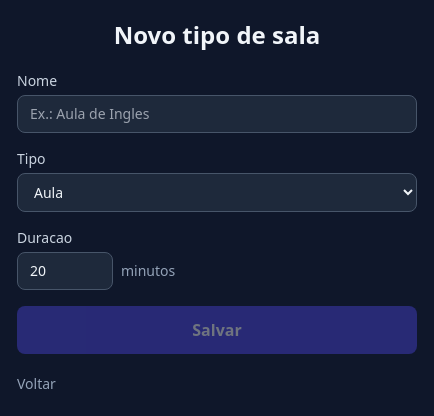
Scenario: RoomProfileForm › blocks submit for an out-of-range duration
The image size is (434, 416).
Replace the text in the number field labelled "Duracao" with "999": (65, 270) [17, 252, 113, 290]
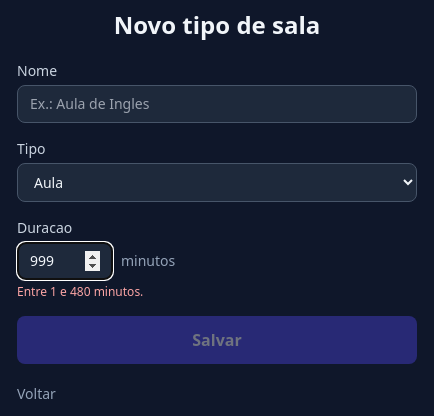
Expected: the button "Salvar" is disabled, [17, 316, 417, 364]
Expected: the text "Entre 1 e 480 minutos." is shown, [17, 282, 143, 300]
